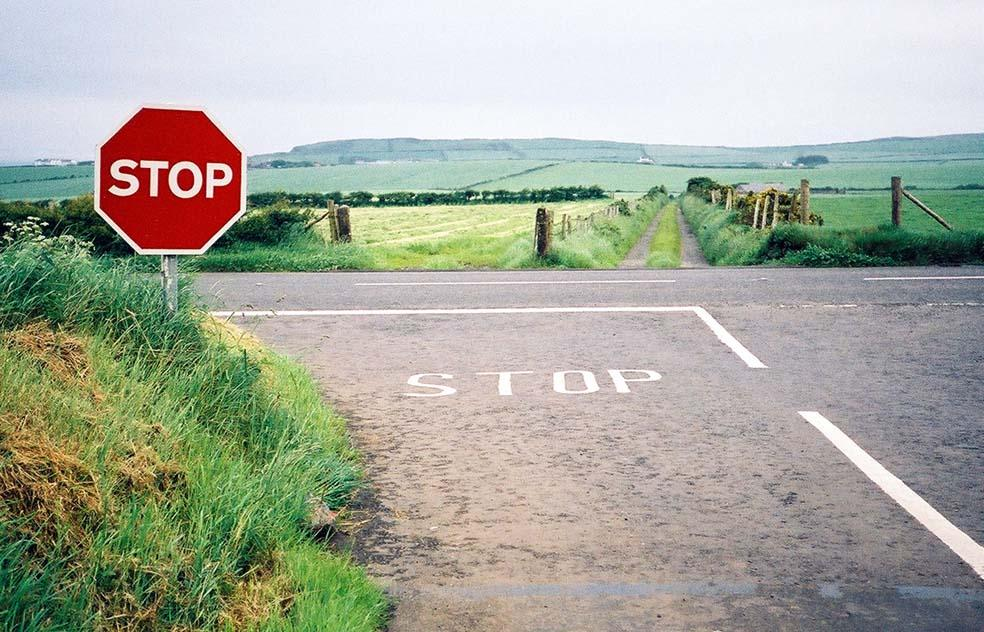stop-sign: (93, 107, 244, 253)
